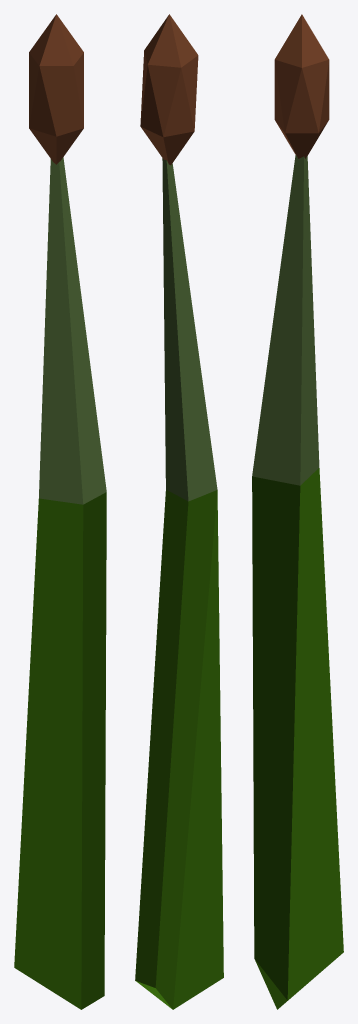
The model's file is SingleReed.fbx.
3 views of the same model, side by side, from view 1: azimuth 90°, elevation 25°; view 2: azimuth 150°, elevation 25°; view 3: azimuth 270°, elevation 25° (orthographic).
Visible parts, largest first — view 1: Cube; view 2: Cube; view 3: Cube.
Boxes of the visible parts, x1,y1,x2,y2 form: Cube: (14,14,106,1009); Cube: (135,14,223,1009); Cube: (252,14,343,1009).
Bounding box in the file's own units: 108 × 1366 × 115.
